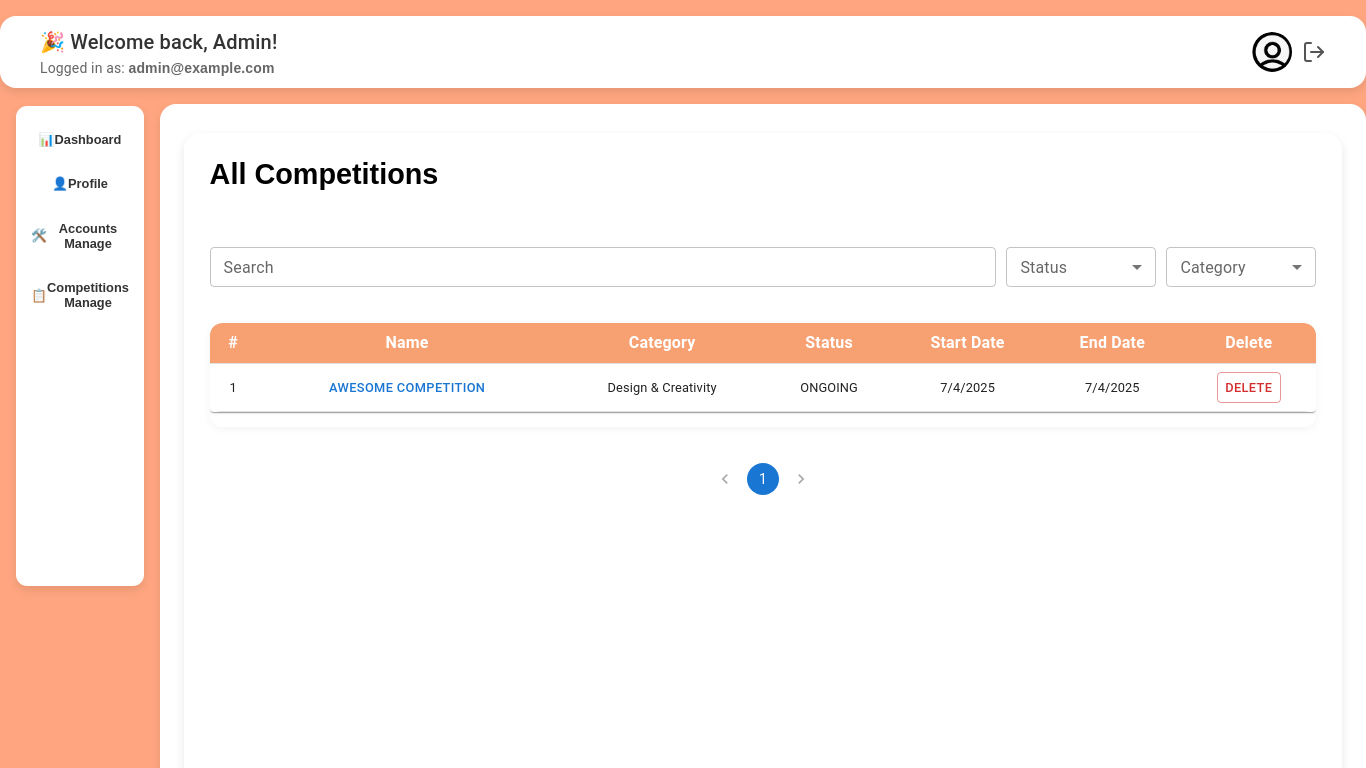
AdminCompetitionsManage › opens competition detail dialog on click
Click the button "Awesome Competition" at (407, 388), box [324, 373, 490, 402]
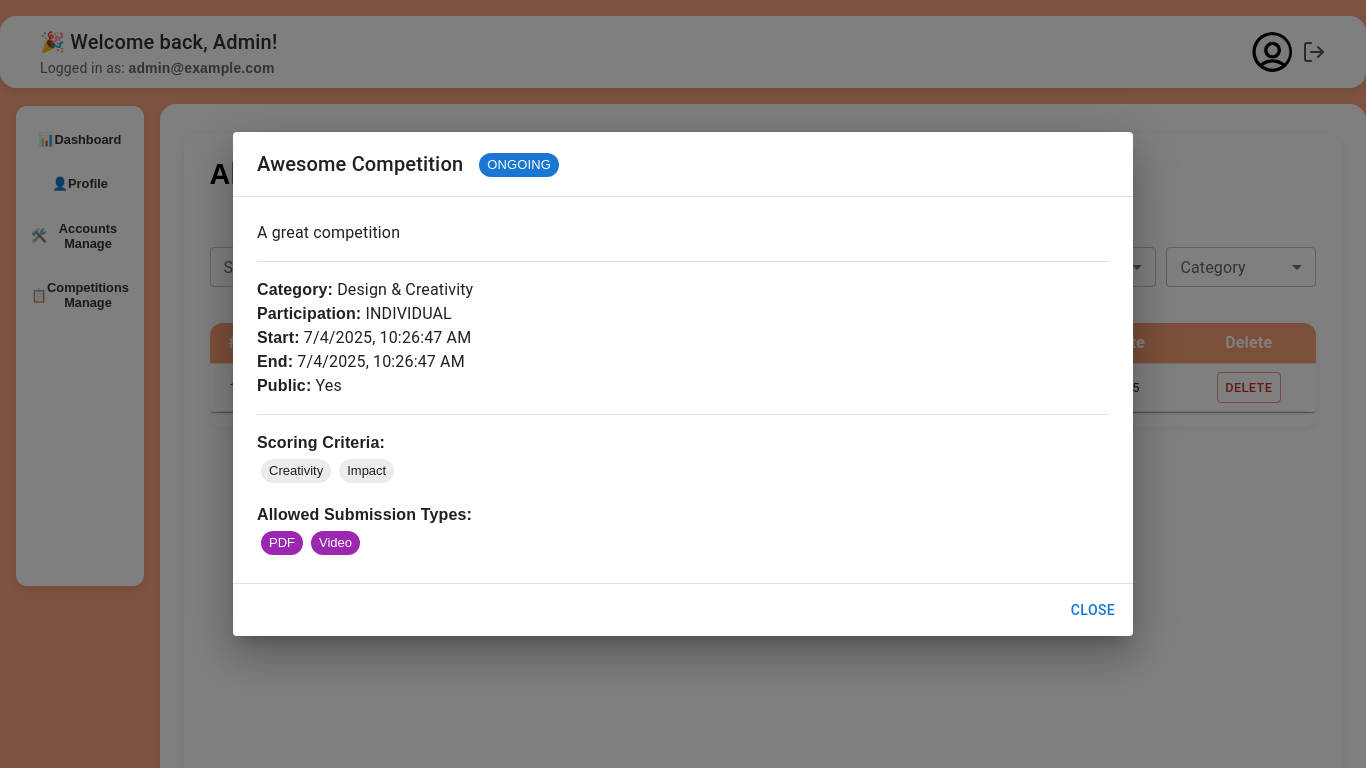
Expected: the text "A great competition" is shown, [257, 223, 400, 242]
Expected: the text "Category:" is shown, [257, 281, 333, 298]
